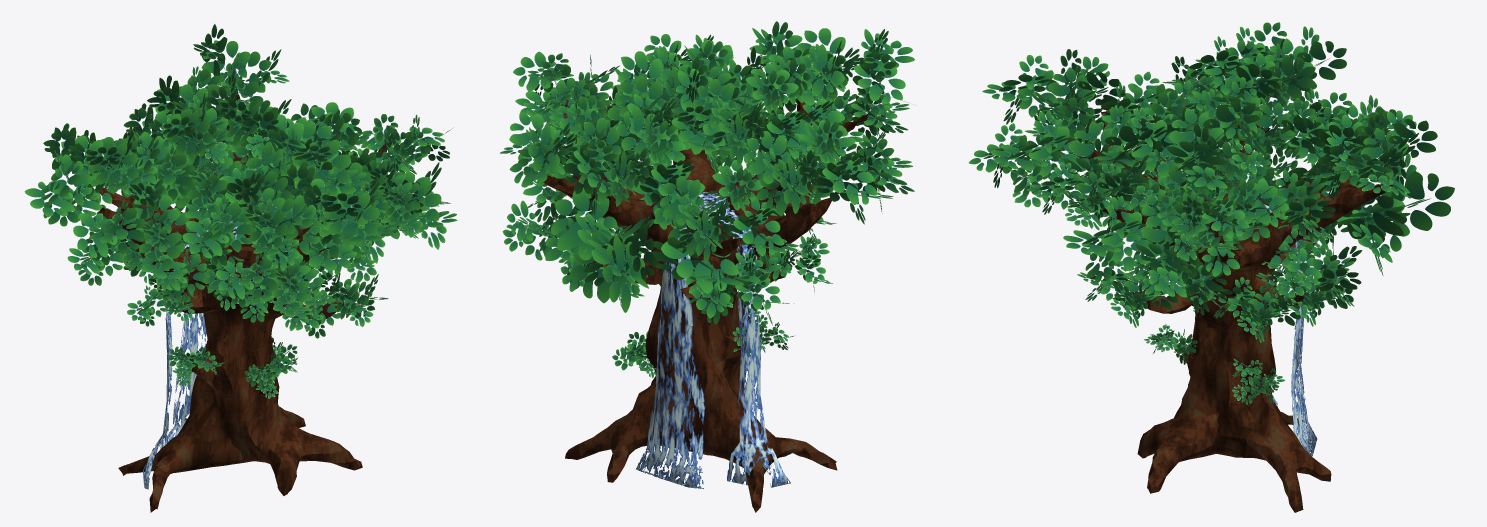
Rendered from center_tree.fbx.
The picture shows the model from 3 angles, left to right: view 1: azimuth 30°, elevation 25°; view 2: azimuth 150°, elevation 25°; view 3: azimuth 270°, elevation 25°; orthographic projection. The views are drawn at different scales.
Visible parts, largest first — view 1: Leaves, Trunk_Detailed, Water; view 2: Leaves, Trunk_Detailed, Water; view 3: Leaves, Trunk_Detailed, Water.
Part boxes in pixels (x1,y1,x2,y2): Leaves: [24, 24, 457, 398]; Trunk_Detailed: [83, 94, 386, 512]; Water: [143, 217, 242, 489]; Leaves: [500, 21, 914, 377]; Trunk_Detailed: [543, 81, 867, 512]; Water: [636, 192, 790, 488]; Leaves: [969, 22, 1454, 404]; Trunk_Detailed: [1065, 98, 1393, 512]; Water: [1221, 203, 1317, 456].
Size of the model in its own units: 3668 by 3407 by 3912.
